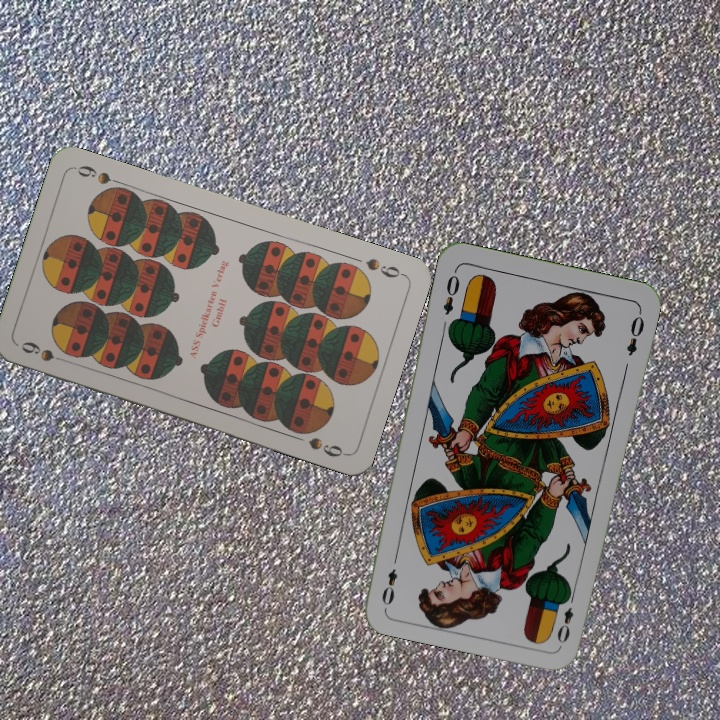EO: (553, 588, 578, 646), (438, 266, 462, 318)
S9: (17, 337, 73, 366), (361, 254, 407, 281)
